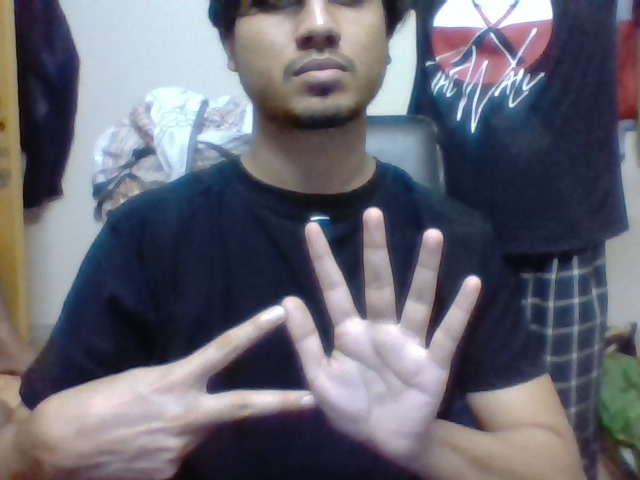N: (178, 304, 284, 429)
